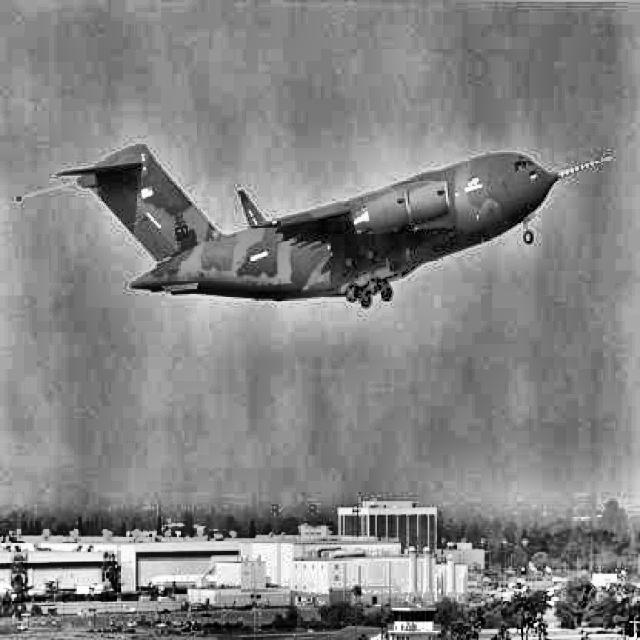C17: (54, 142, 612, 308)
